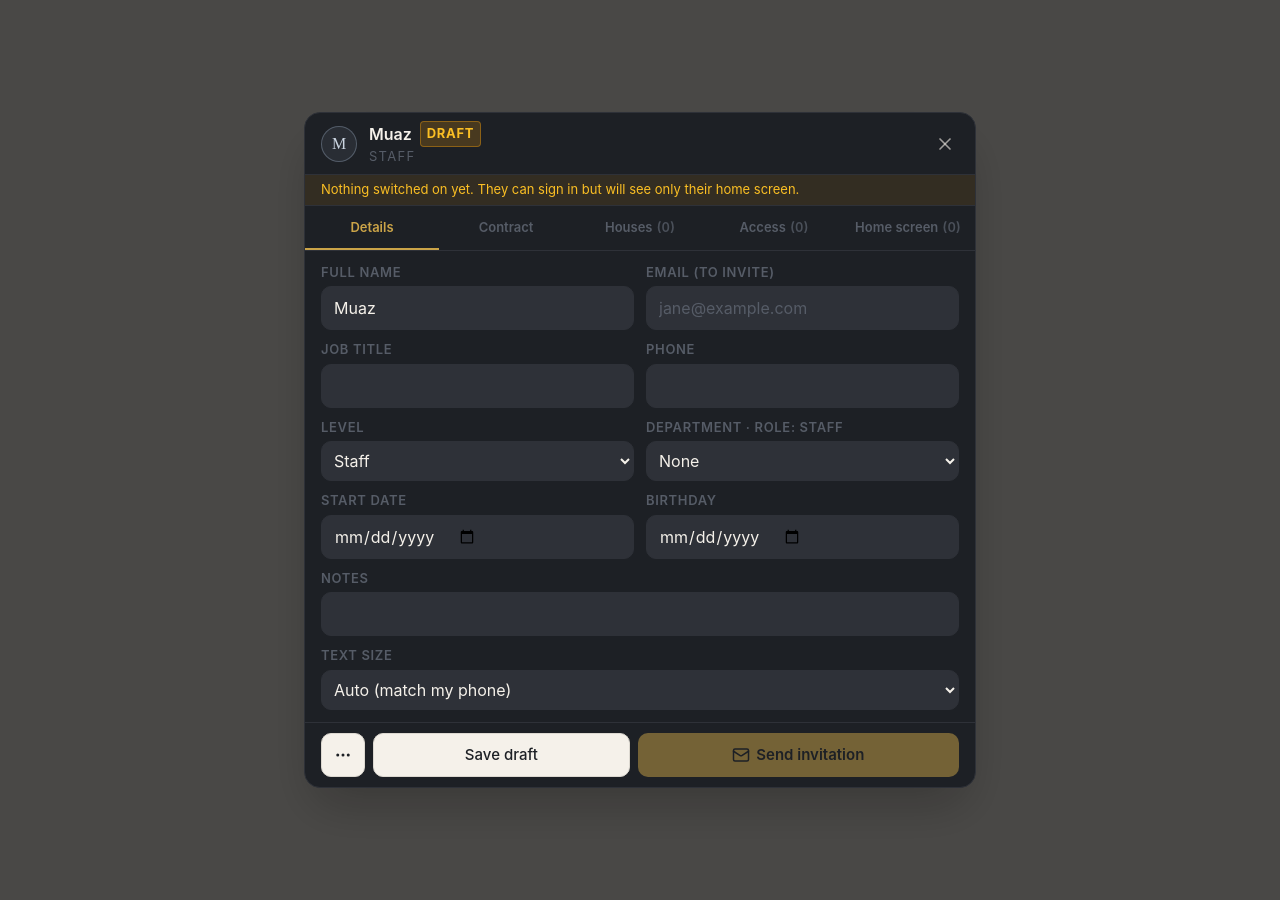
contract tab › staff see pay; the rate field follows the basis
What coordinates should you click on to do the following:
click the tab "Contract"
I would click on:
 (506, 228)
Its box is [439,206,573,250].
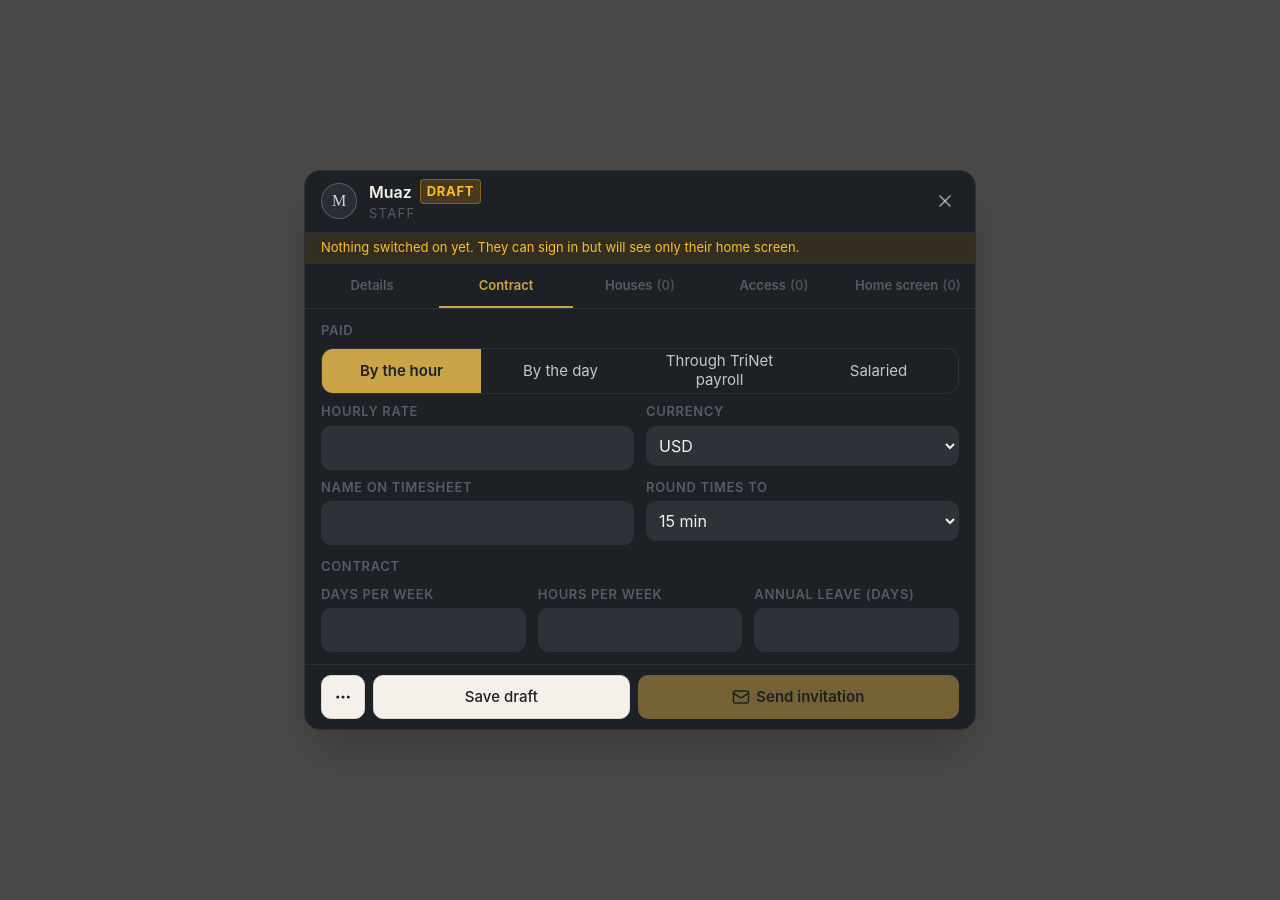
Now the text "Hourly rate" is shown, box [321,403,418,419]
What coordinates should you click on to do the following:
click the radio button labelled "By the day"
I would click on:
 (560, 371)
Its box is [481,349,640,393].
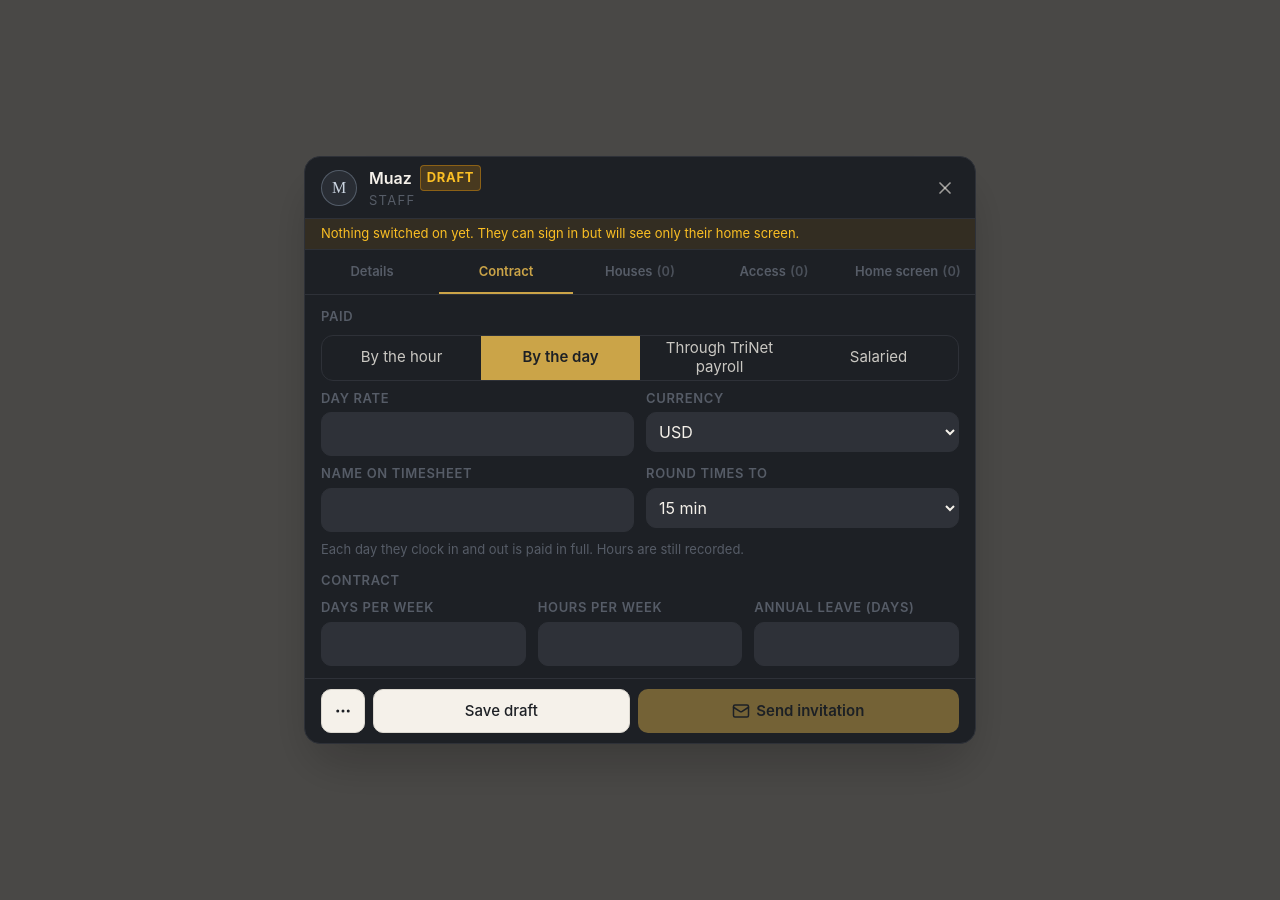
Now the text "Hourly rate" is gone
Now the text "Day rate" is shown, box [321,390,389,406]
Now the text "Each day they clock in and out is paid in full" is shown, box [321,541,744,557]
What coordinates should you click on to do the following:
click the radio button labelled "Through TriNet payroll"
I would click on:
 (720, 358)
Its box is [640,336,799,380].
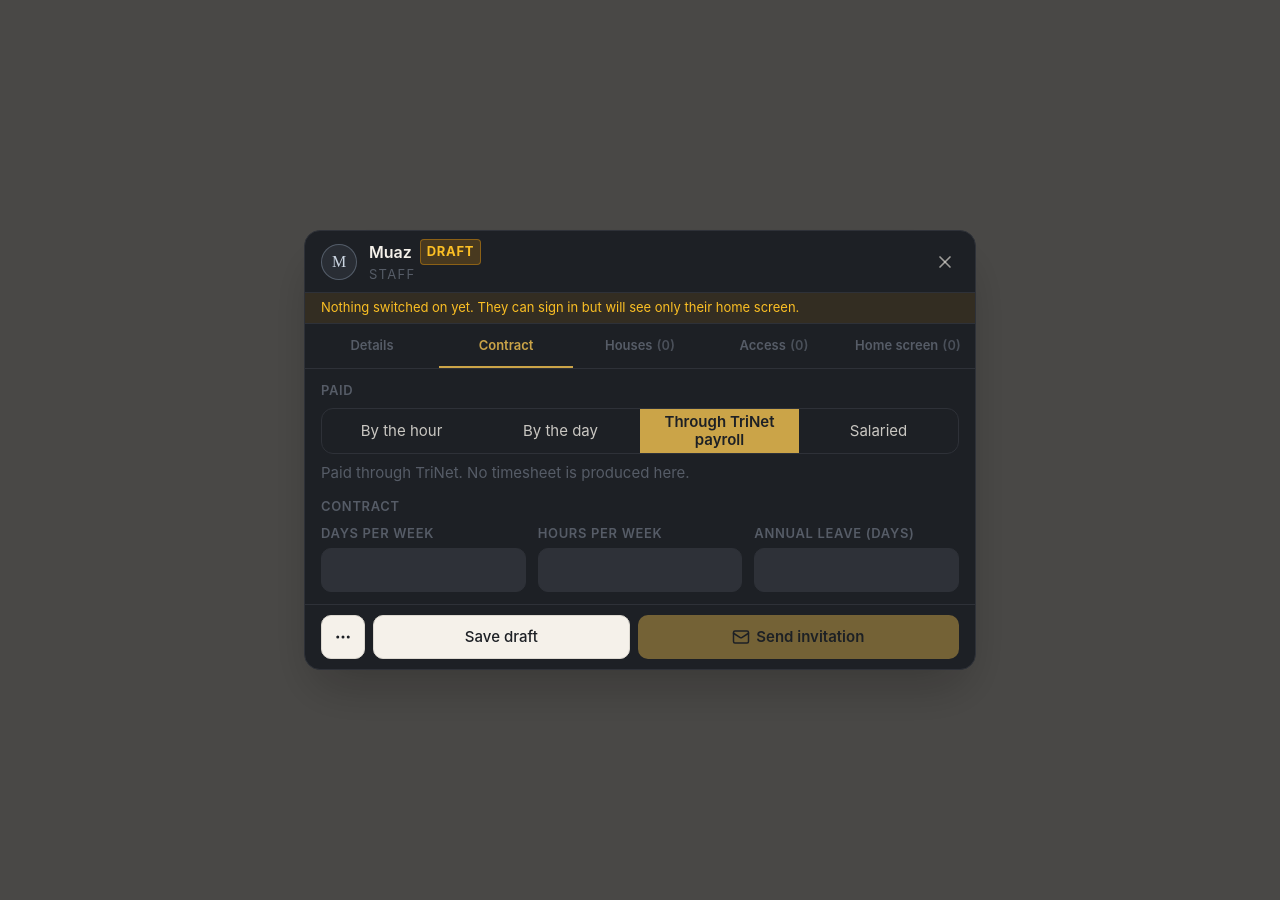
Now the text "Day rate" is gone
Now the text "Paid through TriNet. No timesheet is produced here." is shown, box [321,464,690,482]
